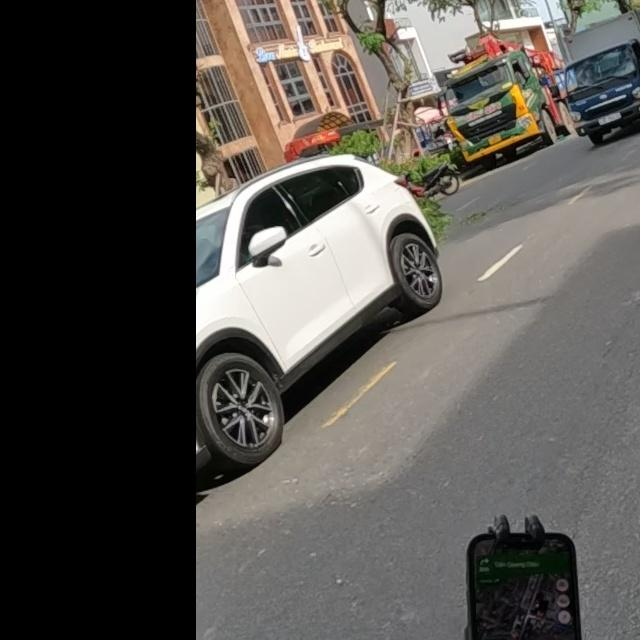license-plate: (597, 111, 622, 126)
